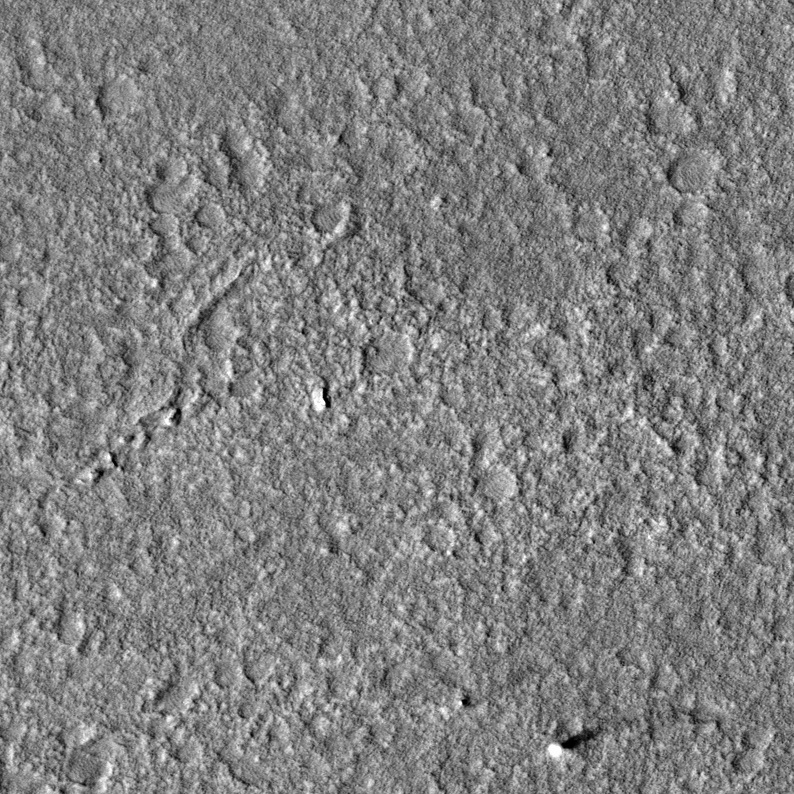dust_devil: (545, 723, 607, 760)
